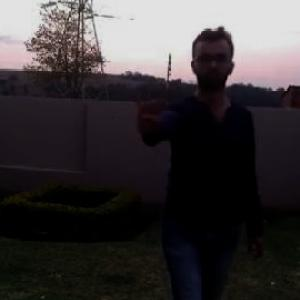takeoff-hand: (124, 88, 170, 134)
